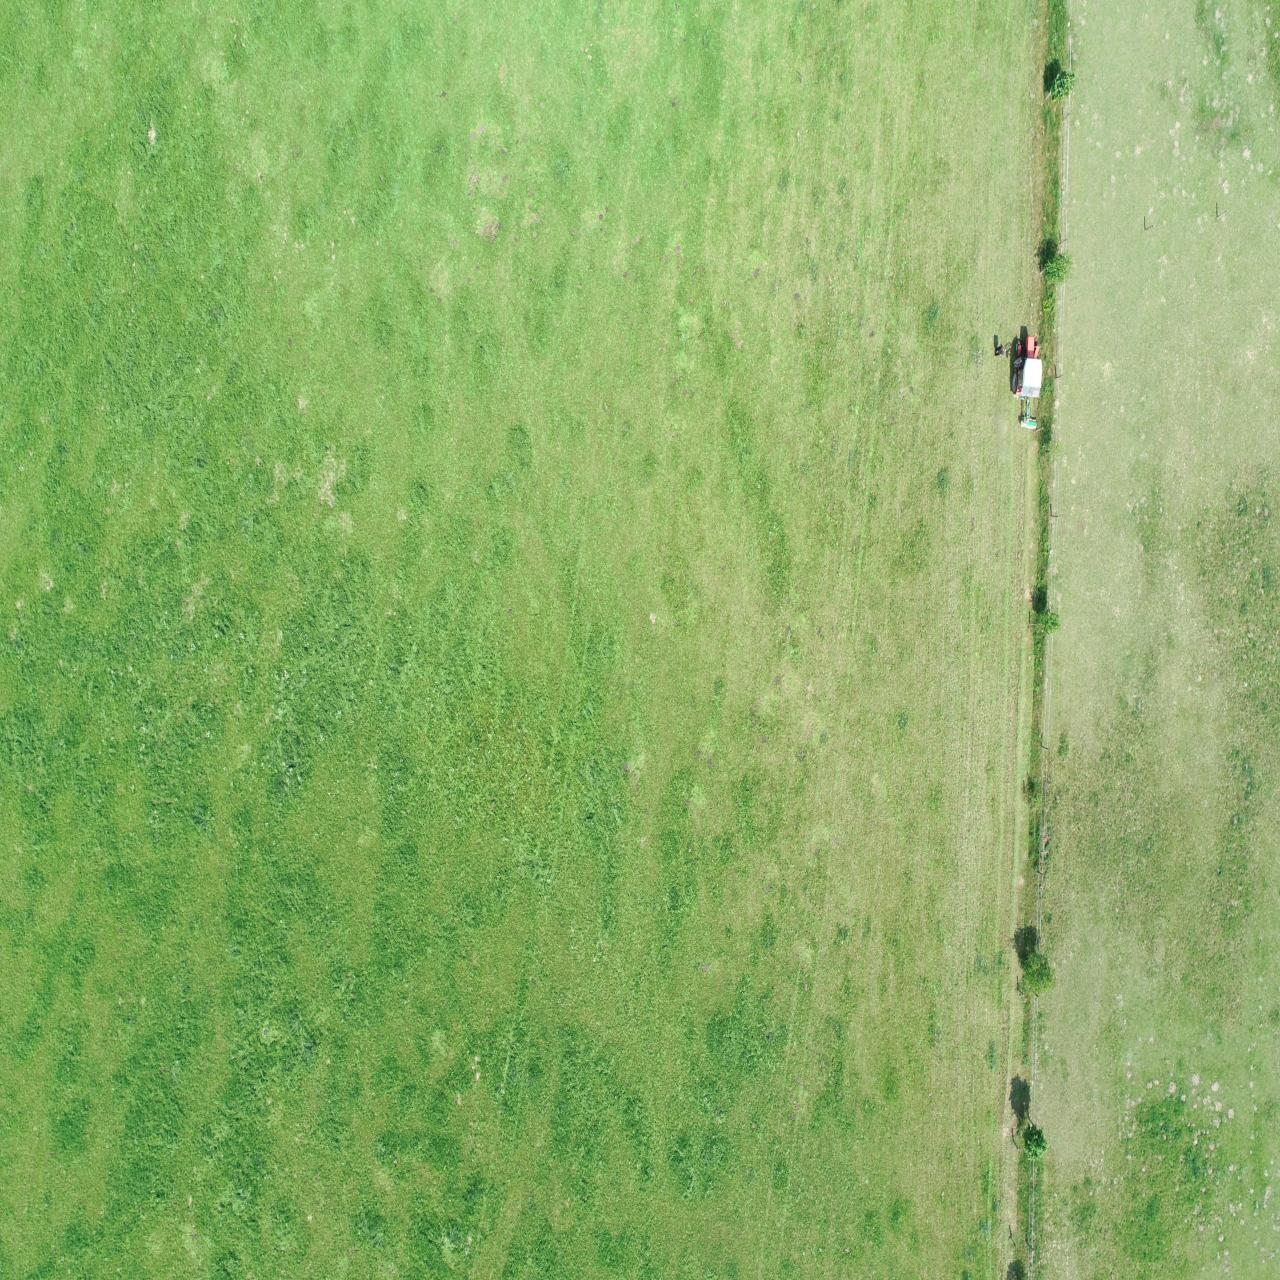cow: (935, 504, 959, 584)
